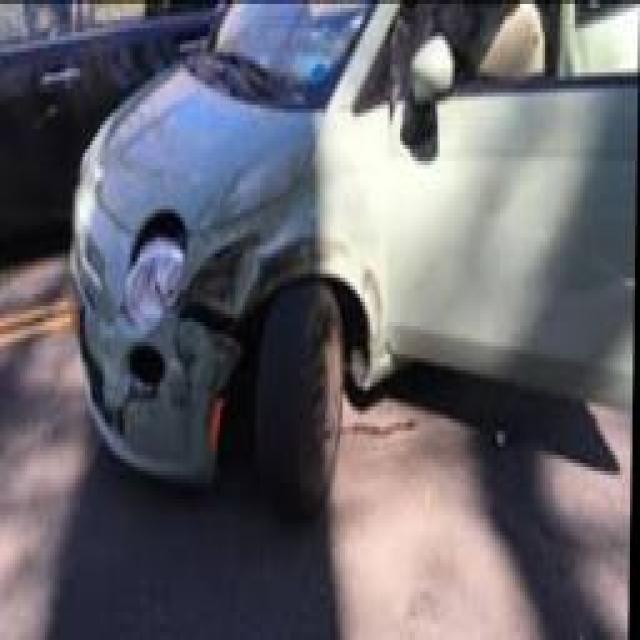Bumper: (70, 297, 251, 507)
Fender: (182, 138, 399, 374)
Light: (103, 218, 193, 332)
